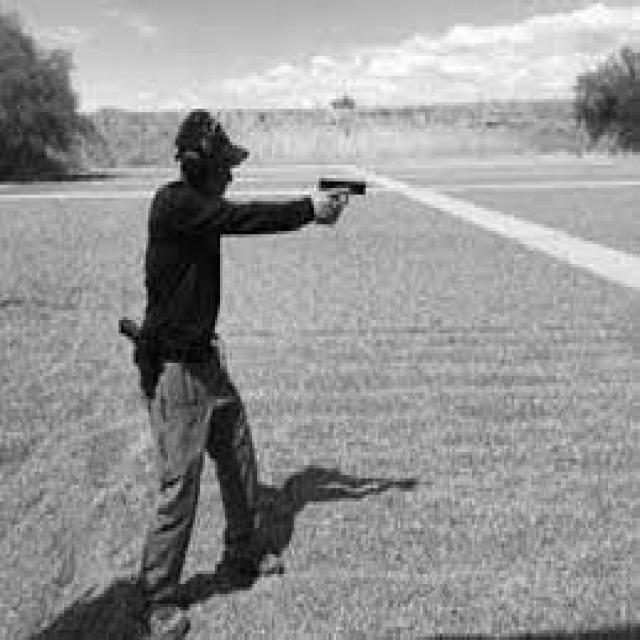gun: (121, 320, 156, 398), (319, 176, 369, 207)
